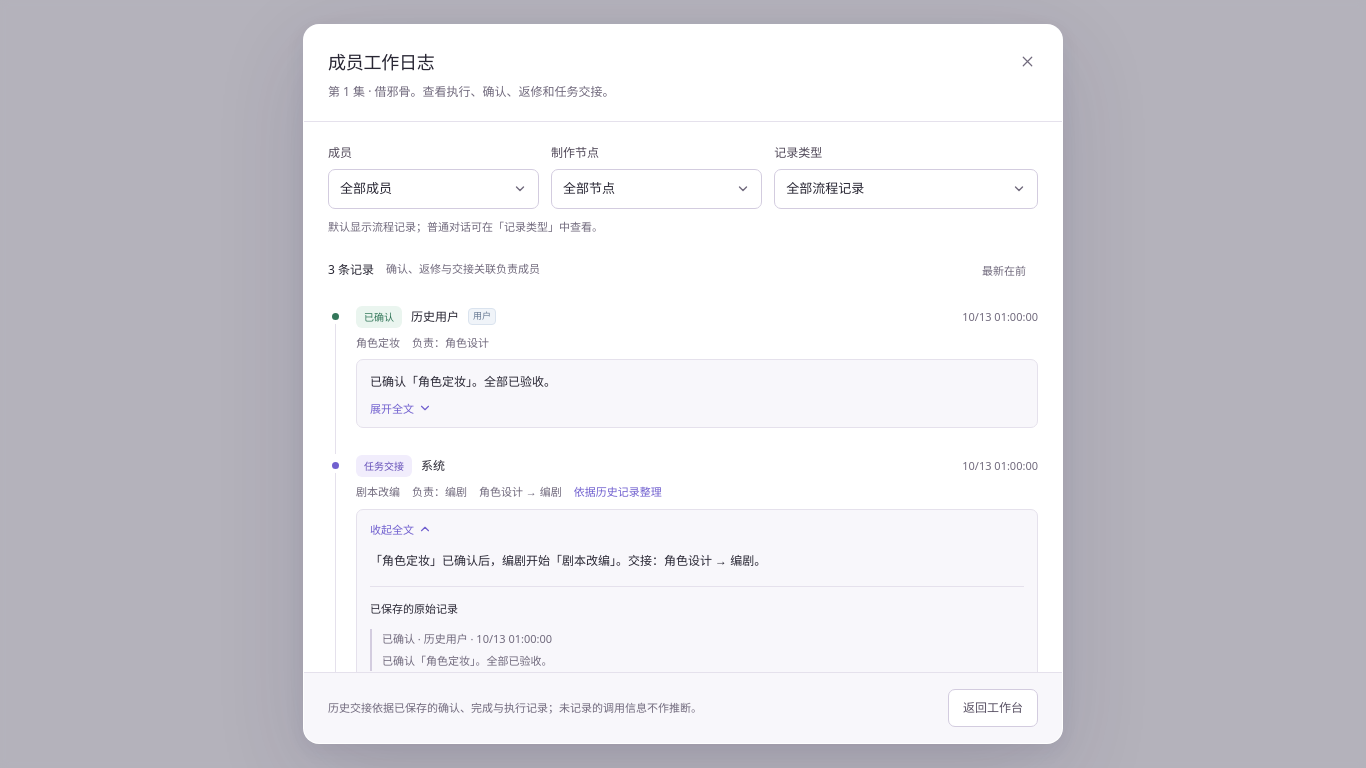
Test: Agent activity dialog › only badges agents, preserves simultaneous message order, and expands historical evidence
Expected: the text "已确认" is shown, [356,306,402,328]
Expected: the text "历史用户" is shown, [411,307,459,326]
What coordinates should you click on to do the following:
click the dropdown labelled "成员"
I would click on:
 (434, 189)
Its box is [328,169,539,209].
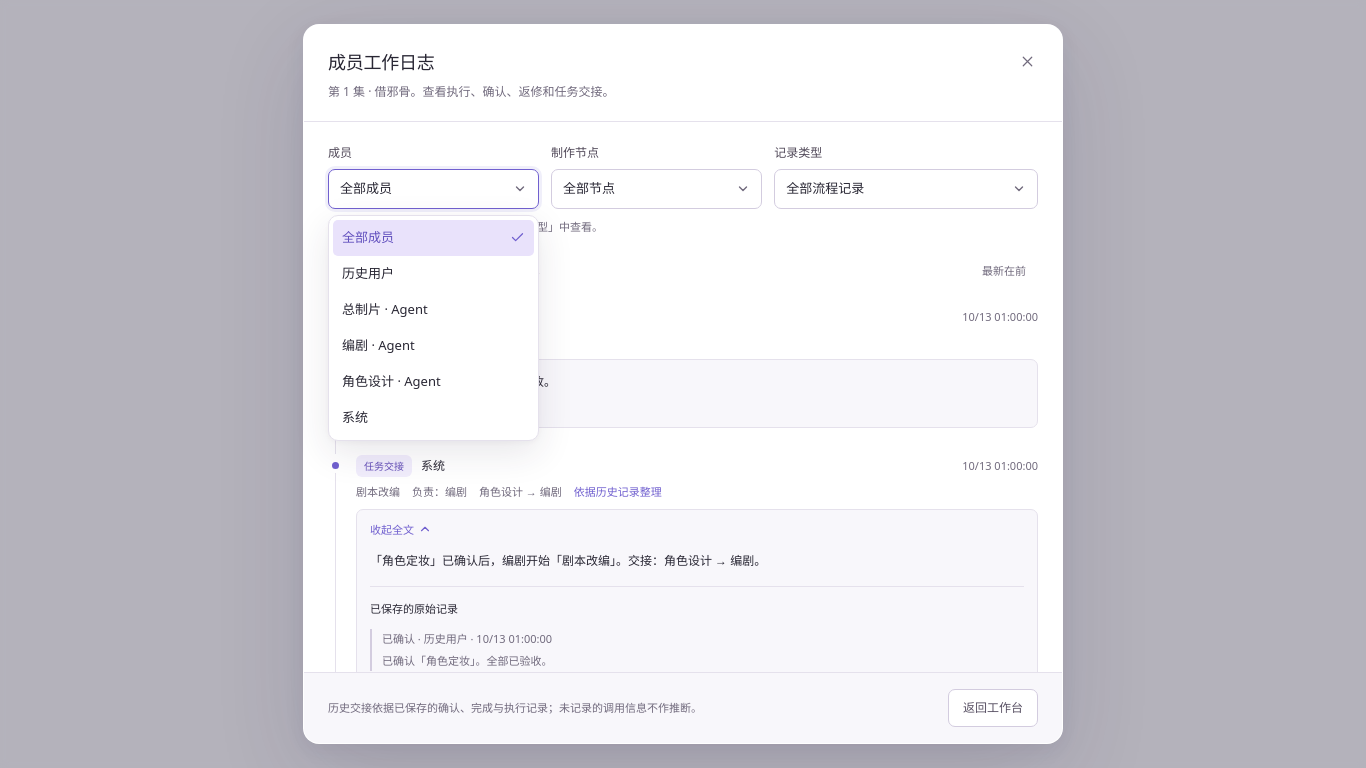
What coordinates should you click on to do the following:
click the option "历史用户"
I would click on:
 (368, 273)
Its box is [342,264,394,282].
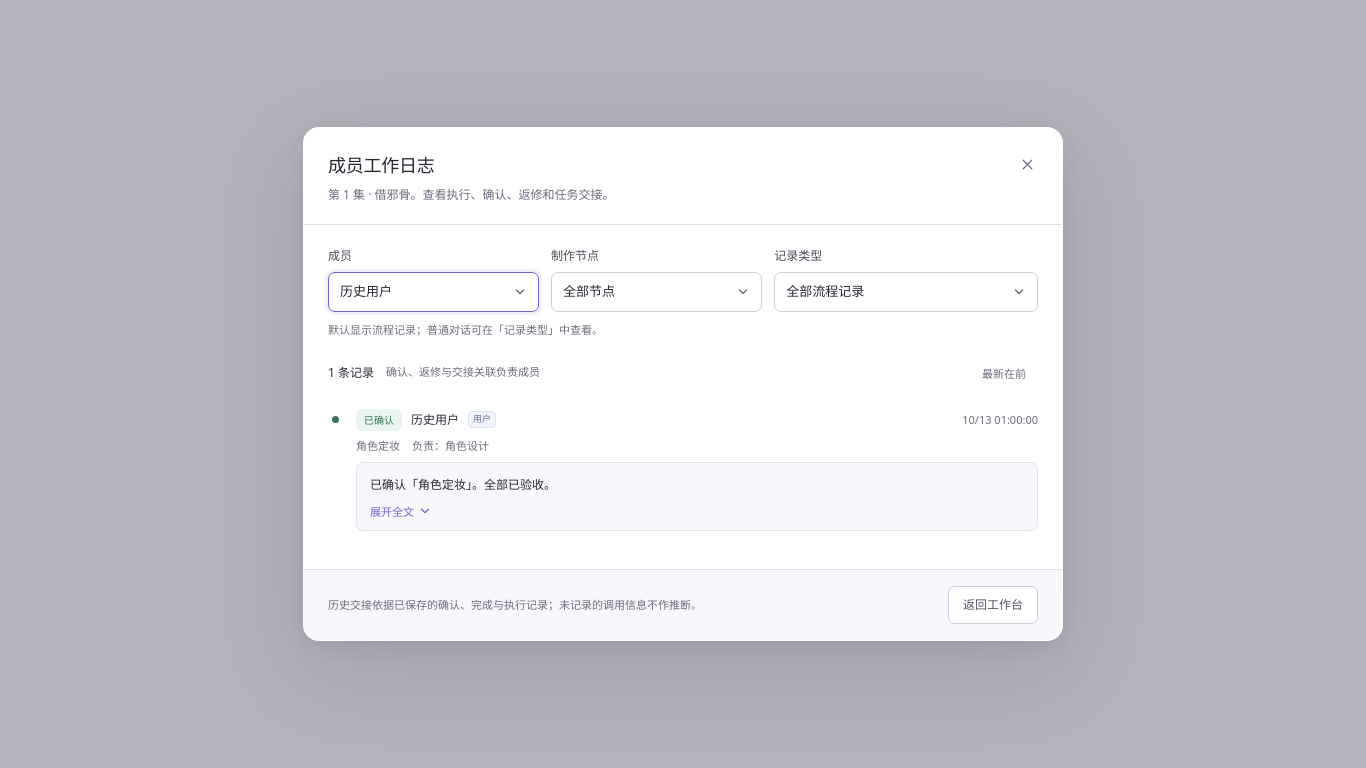
Expected: the text "已确认" is shown, [356,409,402,431]
Now the dropdown named "成员" reads "历史用户", box [328,272,539,312]
Now the number of list items is 1, box [328,398,1038,547]
